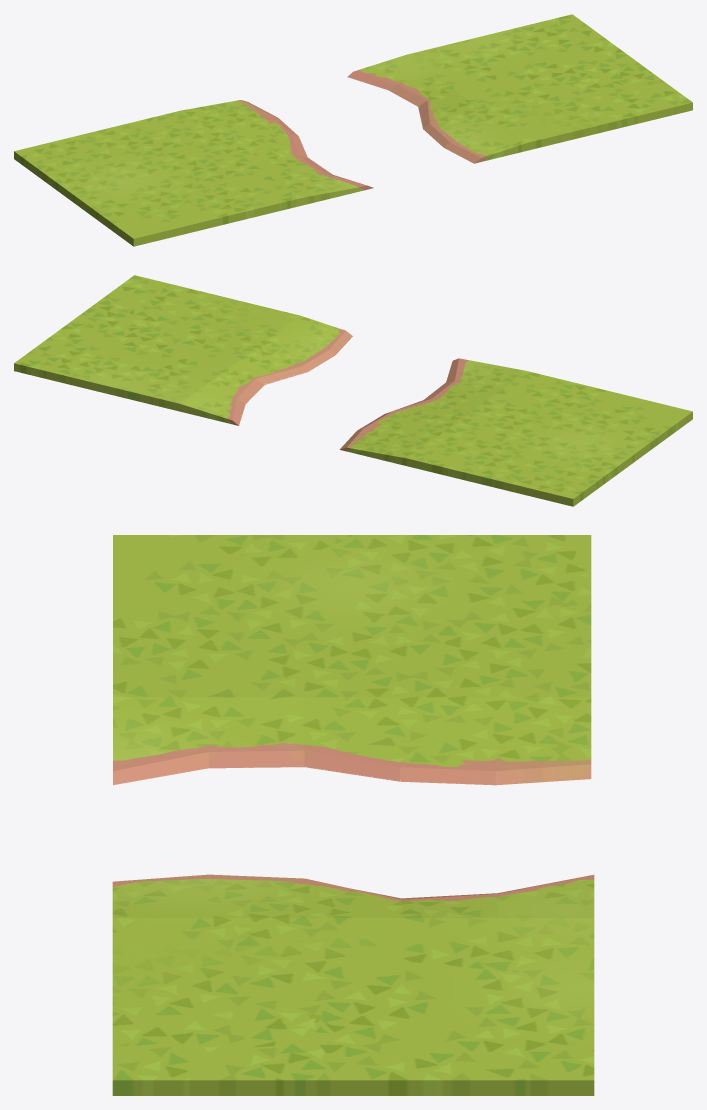
Rendered from RiverBank.fbx.
3 views of the same model, one above another, from view 1: azimuth 30°, elevation 25°; view 2: azimuth 150°, elevation 25°; view 3: azimuth 270°, elevation 25° (orthographic). The views are drawn at different scales.
Visible parts, largest first — view 1: Cube.004, Cube.002; view 2: Cube.004, Cube.002; view 3: Cube.004, Cube.002.
Part boxes in pixels (bbox=[...]): Cube.004: bbox=[14, 100, 373, 246]; Cube.002: bbox=[347, 14, 692, 163]; Cube.004: bbox=[339, 358, 692, 506]; Cube.002: bbox=[14, 275, 352, 425]; Cube.004: bbox=[113, 535, 591, 785]; Cube.002: bbox=[112, 874, 594, 1095].
Size of the model in its own units: 6336 by 84.67 by 2367.
Materials: 2 (2 with a texture image).
